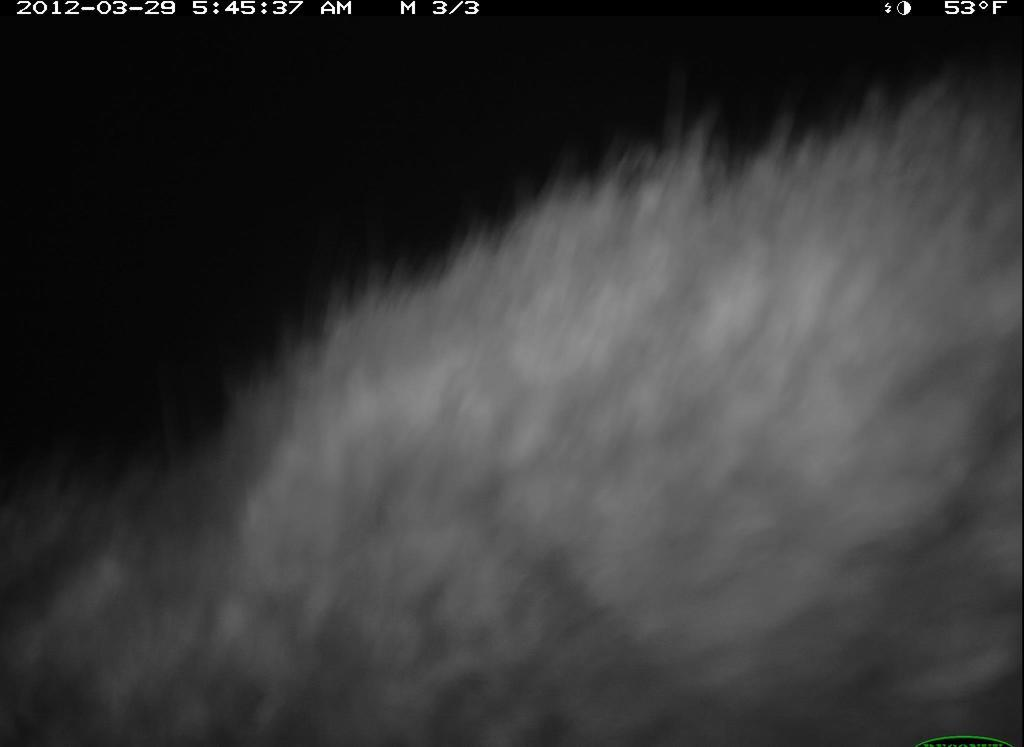raccoon: (6, 93, 1023, 747)
